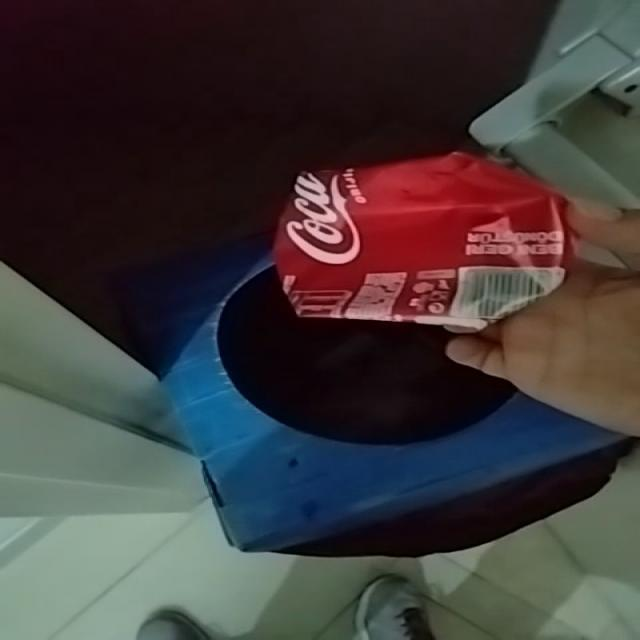Bin: (165, 267, 631, 557)
Metal: (273, 152, 571, 329)
